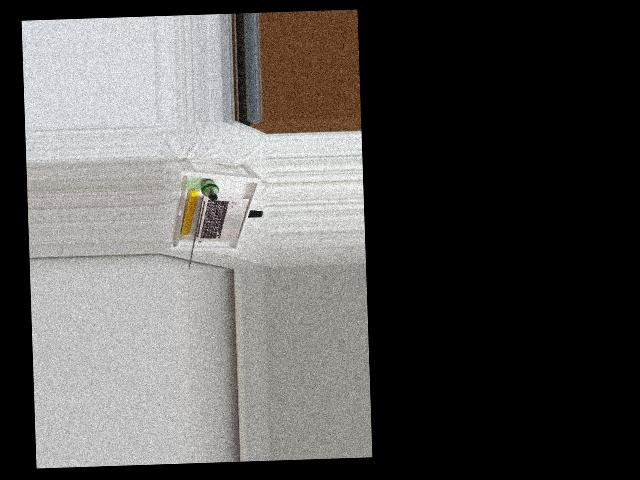beer: (199, 178, 219, 200)
